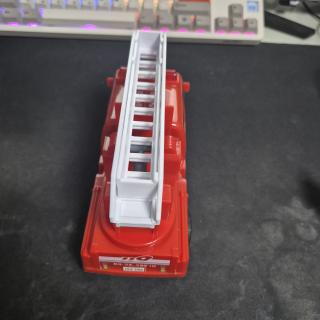Fire_truck: (81, 31, 191, 277)
